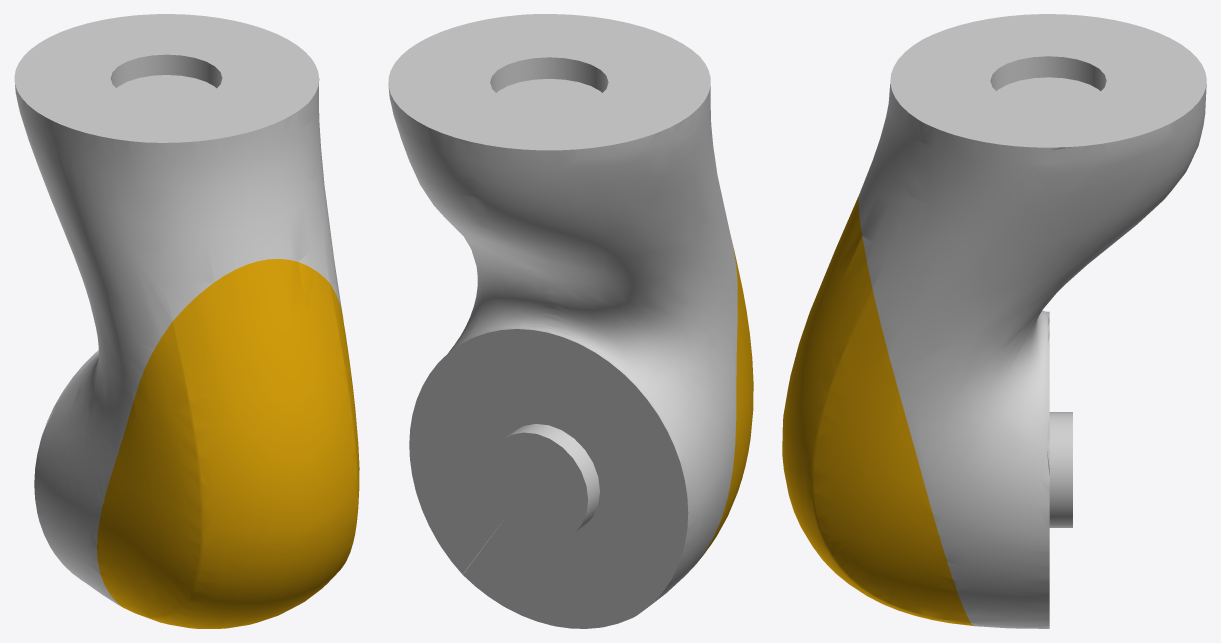
The picture shows the model from 3 angles, left to right: view 1: azimuth 30°, elevation 25°; view 2: azimuth 150°, elevation 25°; view 3: azimuth 270°, elevation 25°; orthographic projection. The views are drawn at different scales.
Visible parts, largest first — view 1: ShapeIndexedFaceSet; view 2: ShapeIndexedFaceSet; view 3: ShapeIndexedFaceSet.
Part boxes in pixels (left/top/right/bottom): ShapeIndexedFaceSet: left=14, top=14, right=359, bottom=628; ShapeIndexedFaceSet: left=388, top=14, right=753, bottom=628; ShapeIndexedFaceSet: left=782, top=14, right=1206, bottom=628.
Size of the model in its own units: 0.136 by 0.2525 by 0.1825.
